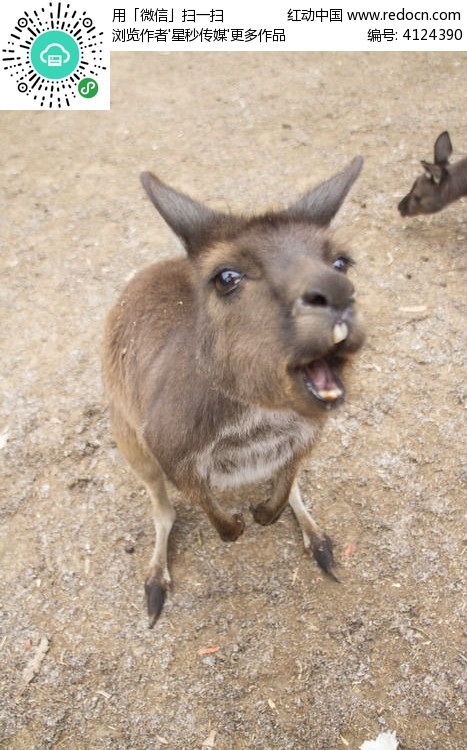kangaroo: (91, 155, 385, 631)
